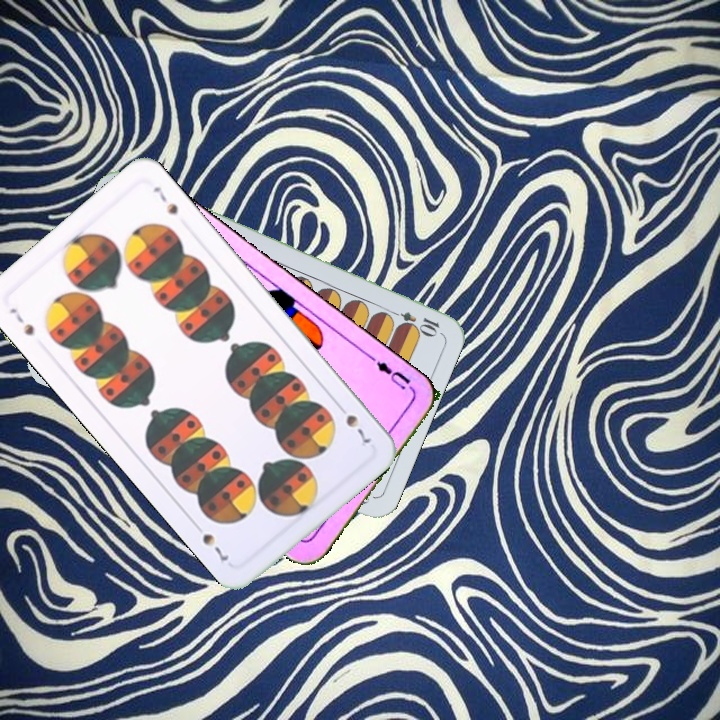E10: (384, 305, 442, 337)
EU: (367, 352, 417, 395)
S7: (333, 399, 373, 447), (5, 303, 37, 338)
